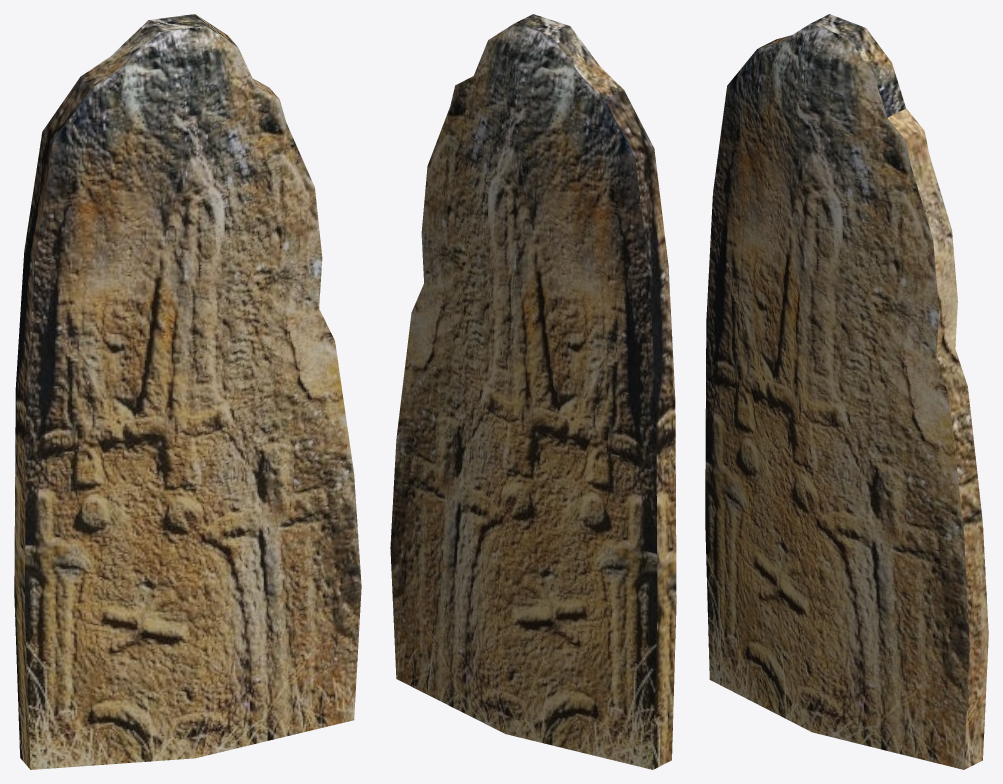
The model's file is Rock4.FBX.
The picture shows the model from 3 angles, left to right: view 1: azimuth 30°, elevation 25°; view 2: azimuth 150°, elevation 25°; view 3: azimuth 330°, elevation 25°; orthographic projection. The views are drawn at different scales.
Visible parts, largest first — view 1: 4Rock; view 2: 4Rock; view 3: 4Rock.
Part boxes in pixels (bbox=[...]): 4Rock: bbox=[14, 14, 361, 769]; 4Rock: bbox=[390, 14, 676, 769]; 4Rock: bbox=[705, 14, 988, 769].
Size of the model in its own units: 3.92 by 8.66 by 1.05.
